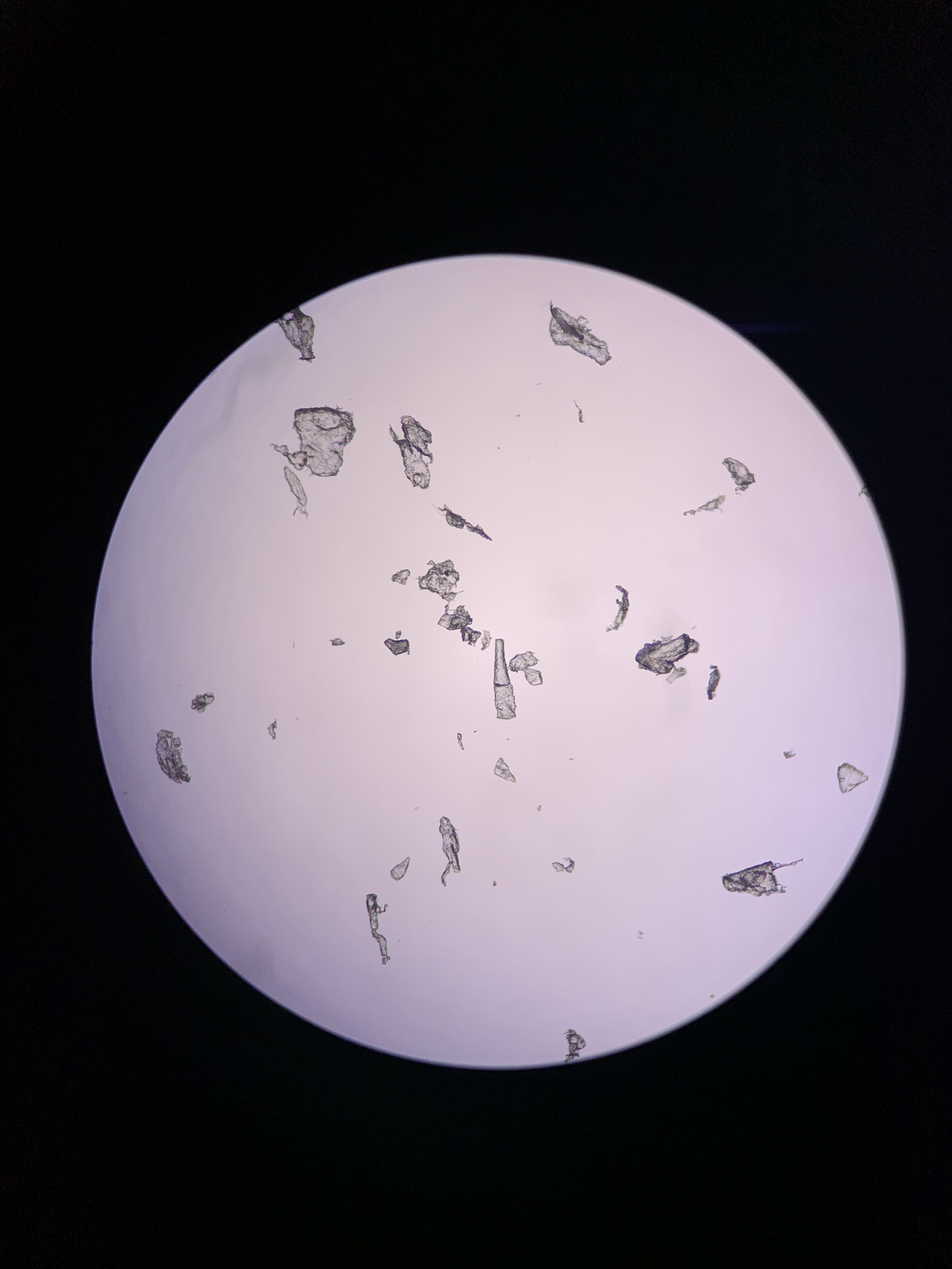microplastic: (269, 404, 356, 477), (549, 300, 612, 366), (388, 415, 434, 489), (635, 633, 700, 684), (721, 857, 803, 896), (274, 306, 316, 363), (432, 504, 493, 541), (415, 559, 464, 605), (155, 729, 192, 784), (493, 638, 517, 720), (438, 605, 481, 647), (366, 893, 390, 964), (439, 816, 461, 887), (721, 457, 756, 497), (284, 465, 309, 519), (605, 585, 630, 633), (508, 651, 543, 685), (836, 762, 869, 794), (683, 495, 726, 516), (563, 1029, 586, 1064), (494, 757, 516, 783), (190, 691, 215, 713), (705, 665, 720, 700), (390, 856, 410, 881), (384, 638, 410, 656), (552, 857, 575, 873), (391, 569, 411, 585), (573, 399, 585, 422), (480, 630, 492, 651), (267, 718, 278, 740), (456, 732, 464, 750), (783, 748, 796, 759), (329, 638, 345, 646), (637, 930, 644, 940), (395, 630, 402, 639), (537, 805, 542, 812), (492, 880, 497, 887)
